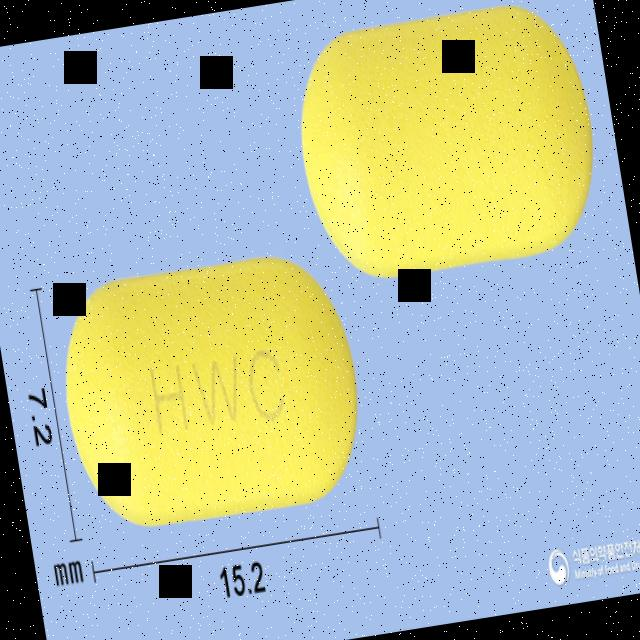Clacid - 250mg: (44, 235, 383, 550)
